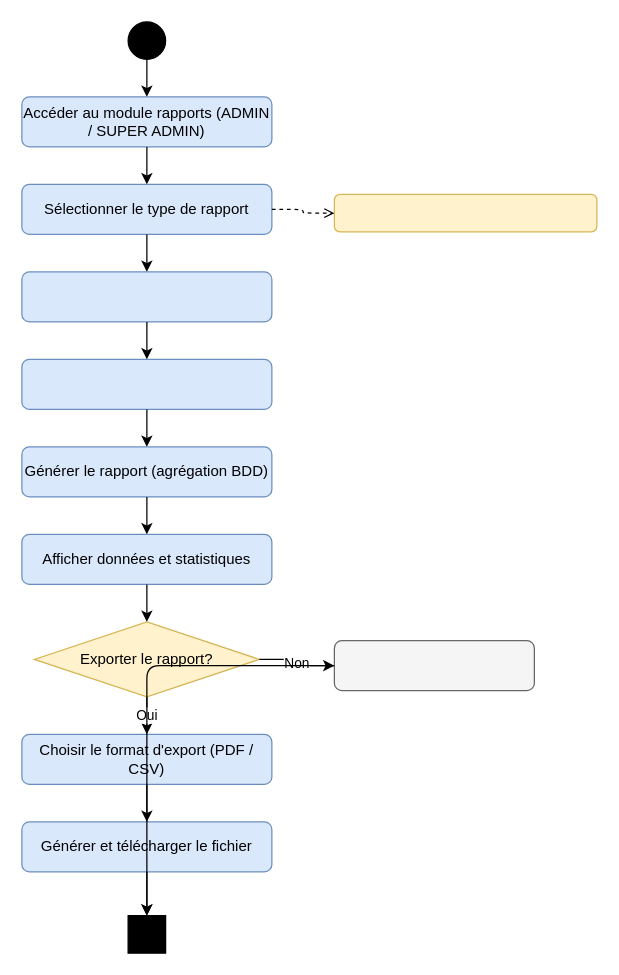
Image size: 619x975. Some labels were removed from this diagram. Here are the shapes that lost their labels. From the top down, the box of each, then its label:
(333, 193, 597, 232): Revenus / Réservations / Utilisateurs / Logements
(21, 271, 272, 322): Définir la période (date début / date fin)
(21, 358, 272, 409): Appliquer filtres optionnels (logement, utilisateur...)
(333, 639, 534, 691): Consulter uniquement à l'écran
